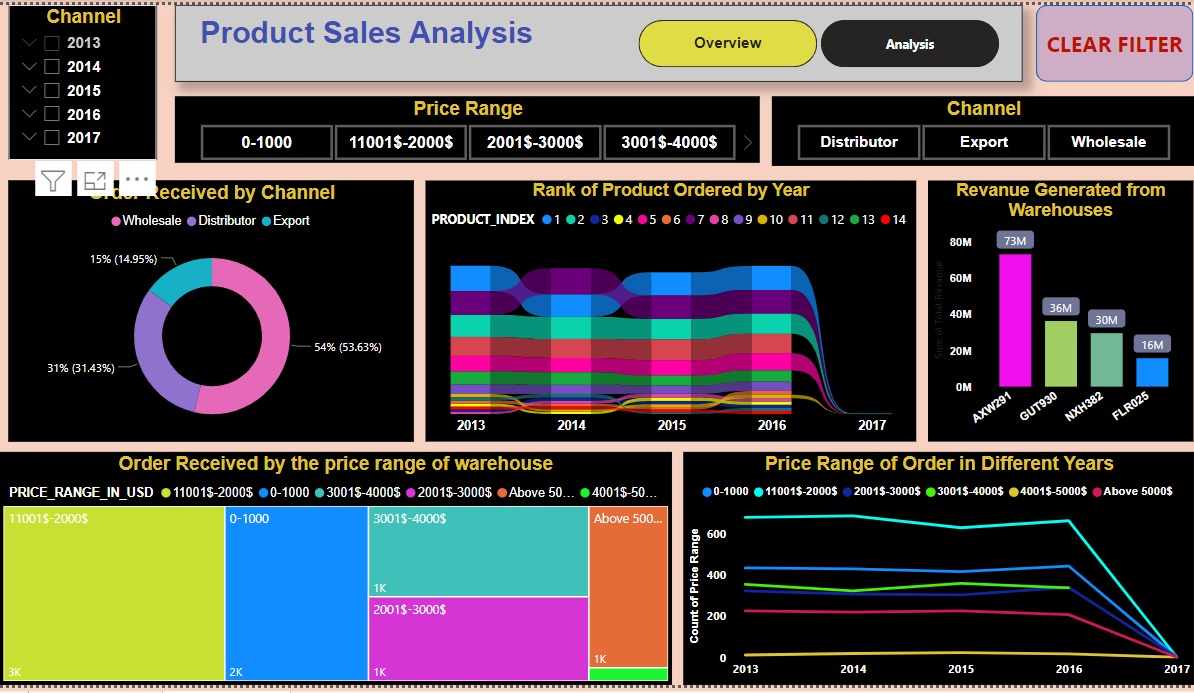

Layout of this report page (visuals, bound fields, positions):
{"tool":"powerbi","page":{"name":" Analysis","canvas":[1280,720],"ordinal":1},"visuals":[{"type":"textbox","box":[187.5,0,898,81.1],"z":0},{"type":"shape","box":[1099.9,0,166.9,81.1],"z":4000},{"type":"donutChart","title":"Order Received by Channel","fields":{"Category":["CUSTOMERS_NEW.CHANNEL"],"Y":["CountNonNull(CUSTOMERS_NEW.ORDER_NO)"],"Series":["CUSTOMERS_NEW.CHANNEL"]},"box":[10.9,185.9,429.5,276.4],"z":5000},{"type":"ribbonChart","title":"Rank of Product Ordered by Year","fields":{"Y":["Sum(CUSTOMERS_NEW.ORDER_QUANTITY)"],"Series":["CUSTOMERS_NEW.PRODUCT_DESCRIPTION_INDEX"],"Category":["CUSTOMERS_NEW.ORDER_DATE.Variation.Date Hierarchy.Year"]},"box":[452.9,185.9,520.1,276.4],"z":6000},{"type":"lineClusteredColumnComboChart","title":"Revanue Generated from Warehouses","fields":{"Category":["CUSTOMERS_NEW.WAREHOUSE_CODE"],"Y":["Sum(CUSTOMERS_NEW.Total Revanue)"]},"box":[985.5,185.9,281.1,276.4],"z":7000},{"type":"pageNavigator","box":[679.2,16.7,383.8,50.1],"z":8000},{"type":"treemap","title":"Order Received by the  price range of  warehouse","fields":{"Group":["CUSTOMERS_NEW.PRICE_RANGE_IN_USD"],"Values":["CountNonNull(CUSTOMERS_NEW.PRICE_RANGE_IN_USD)"]},"box":[0,473.2,713.8,246.8],"z":9000},{"type":"lineChart","title":"Price Range of Order in Different Years","fields":{"Category":["CUSTOMERS_NEW.ORDER_DATE.Variation.Date Hierarchy.Year"],"Y":["CountNonNull(CUSTOMERS_NEW.PRICE_RANGE_IN_USD)"],"Series":["CUSTOMERS_NEW.PRICE_RANGE_IN_USD"]},"box":[726.2,473.2,540.4,246.8],"z":11000},{"type":"slicer","title":"Channel","fields":{"Values":["CUSTOMERS_NEW.ORDER_DATE.Variation.Date Hierarchy.Year","CUSTOMERS_NEW.ORDER_DATE.Variation.Date Hierarchy.Quarter","CUSTOMERS_NEW.ORDER_DATE.Variation.Date Hierarchy.Month","CUSTOMERS_NEW.ORDER_DATE.Variation.Date Hierarchy.Day"]},"box":[11.1,0,157.4,163.7],"z":11001},{"type":"slicer","title":"Price Range","fields":{"Values":["CUSTOMERS_NEW.PRICE_RANGE_IN_USD"]},"box":[186.9,96.8,619.1,70.1],"z":11002},{"type":"slicer","title":"Channel","fields":{"Values":["CUSTOMERS_NEW.CHANNEL"]},"box":[819.4,96.8,447.2,73.4],"z":11003}]}

Visuals, with their boxes in screenshot pixels (x1, y1, x2, y2):
textbox: detection(169, 0, 1026, 77)
shape: detection(1040, 0, 1193, 77)
"Order Received by Channel" donutChart: detection(1, 177, 411, 441)
"Rank of Product Ordered by Year" ribbonChart: detection(423, 177, 919, 441)
"Revanue Generated from Warehouses" lineClusteredColumnComboChart: detection(931, 177, 1193, 441)
pageNavigator: detection(638, 16, 1004, 64)
"Order Received by the  price range of  warehouse" treemap: detection(0, 451, 671, 687)
"Price Range of Order in Different Years" lineChart: detection(683, 451, 1193, 687)
"Channel" slicer: detection(1, 0, 151, 156)
"Price Range" slicer: detection(169, 92, 759, 159)
"Channel" slicer: detection(772, 92, 1193, 162)
